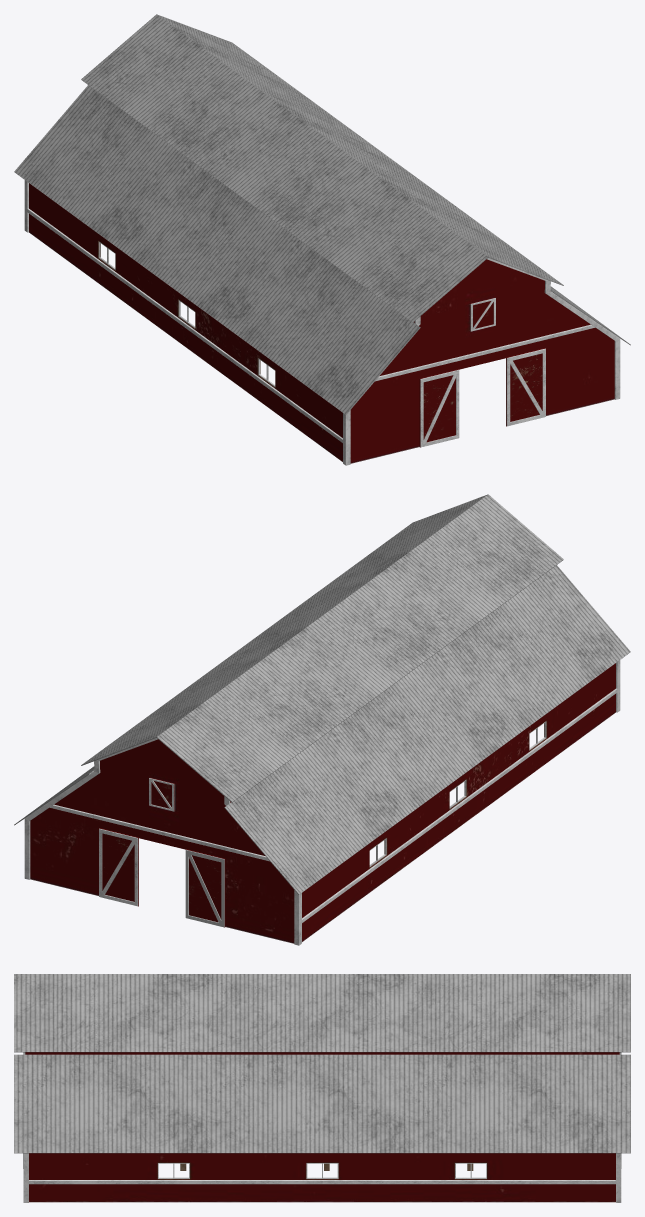
File: barn.glb
The picture shows the model from 3 angles, top to bottom: view 1: azimuth 30°, elevation 25°; view 2: azimuth 150°, elevation 25°; view 3: azimuth 270°, elevation 25°; orthographic projection. The views are drawn at different scales.
Visible parts, largest first — view 1: Cube.001, Cube, Window, Cube.013; view 2: Cube.001, Cube, Window, Cube.013; view 3: Cube.001, Cube, Cube.013, Window.
Boxes of the visible parts, x1,y1,x2,y2 form: Cube.001: (14, 14, 630, 414); Cube: (29, 183, 614, 463); Window: (98, 241, 545, 447); Cube.013: (24, 180, 620, 465); Cube.001: (14, 494, 630, 894); Cube: (30, 663, 615, 943); Window: (99, 721, 546, 927); Cube.013: (24, 660, 620, 945); Cube.001: (14, 974, 630, 1153); Cube: (25, 1052, 619, 1202); Cube.013: (23, 1052, 621, 1202); Window: (23, 1052, 621, 1178).
Bounding box in the file's own units: 3.97 × 2.39 × 8.
Materials: 5 (5 with a texture image).
